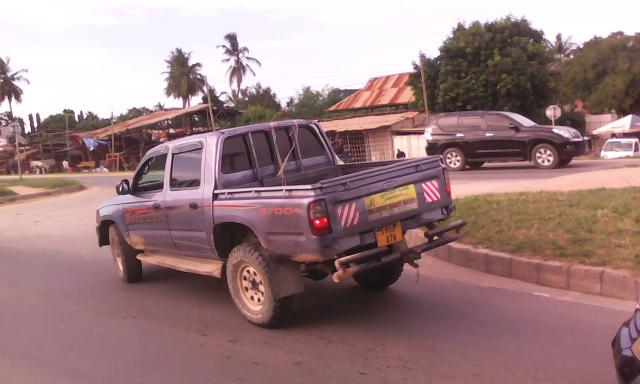pickup-truck: (97, 119, 461, 332)
